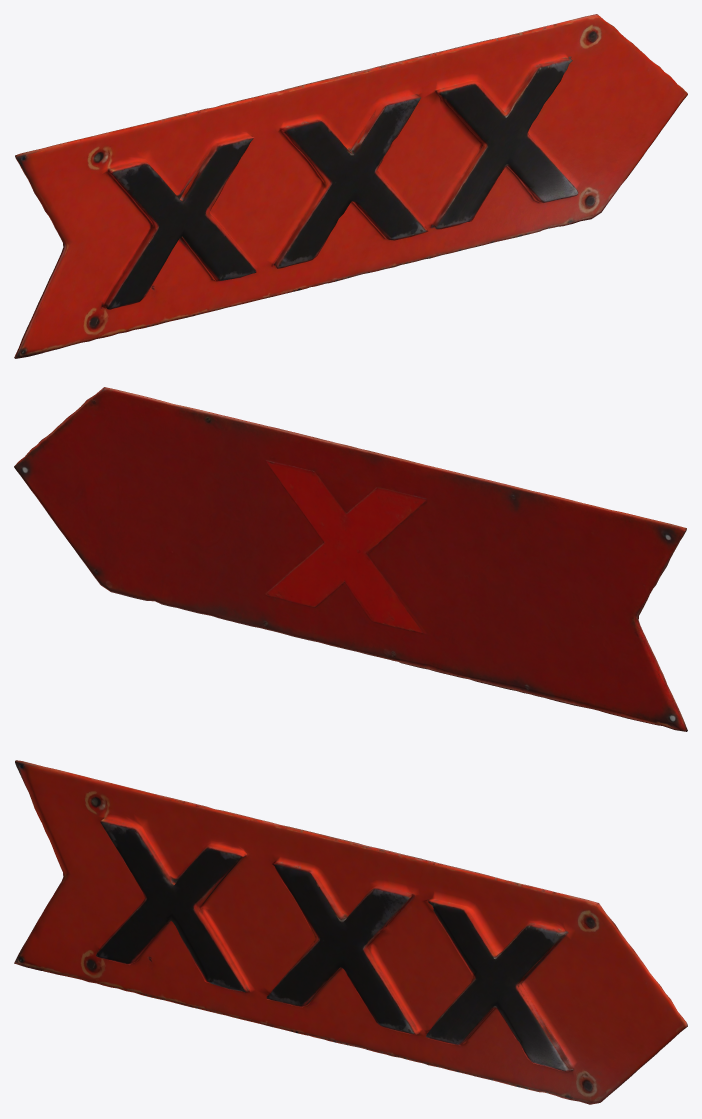
Rendered from AmsterdamSign.glb.
3 renders of one model, top to bottom at view 1: azimuth 30°, elevation 25°; view 2: azimuth 150°, elevation 25°; view 3: azimuth 330°, elevation 25°, orthographic.
Visible parts, largest first — view 1: AmsterdamSign; view 2: AmsterdamSign; view 3: AmsterdamSign.
Boxes of the visible parts, x1=… form: AmsterdamSign: x1=14, y1=14, x2=687, y2=358; AmsterdamSign: x1=14, y1=387, x2=687, y2=731; AmsterdamSign: x1=14, y1=760, x2=687, y2=1104.
Bounding box in the file's own units: 2 × 0.5815 × 0.0403.
1 material, 1 textured.
